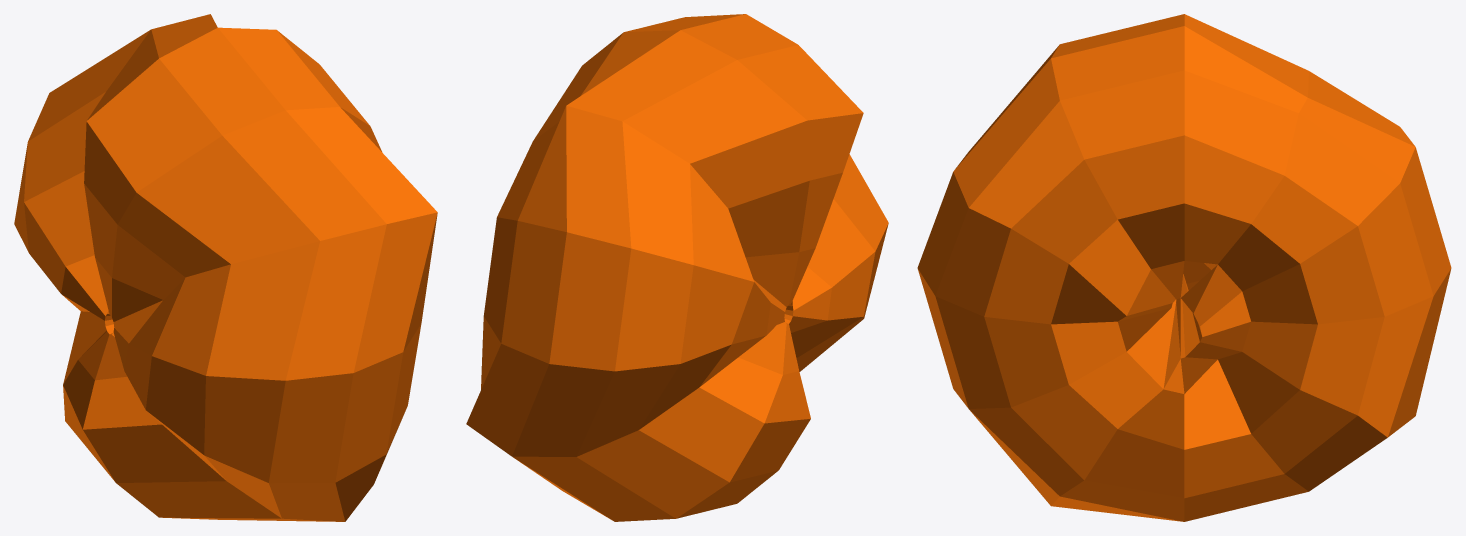
Rendered from pumpkin.dae.
The picture shows the model from 3 angles, left to right: view 1: azimuth 30°, elevation 25°; view 2: azimuth 150°, elevation 25°; view 3: azimuth 270°, elevation 25°; orthographic projection. The views are drawn at different scales.
Visible parts, largest first — view 1: polySurface6; view 2: polySurface6; view 3: polySurface6.
Boxes of the visible parts, <box> form: polySurface6: <box>14,14,437,521</box>; polySurface6: <box>466,14,888,521</box>; polySurface6: <box>917,14,1451,521</box>.
Bounding box in the file's own units: 0.5866 × 1 × 1.
Materials: 1 (1 with a texture image).
